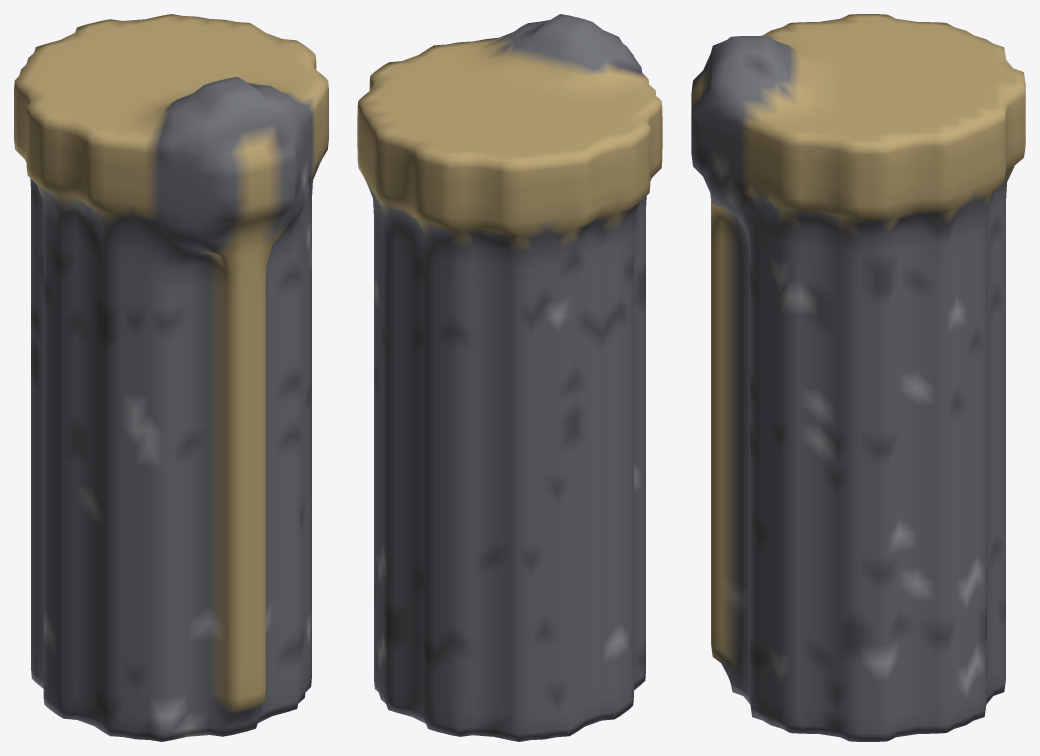
Rendered from plate_rare_boot_shin_L.glb.
3 views of the same model, side by side, from view 1: azimuth 30°, elevation 25°; view 2: azimuth 150°, elevation 25°; view 3: azimuth 270°, elevation 25° (orthographic). The views are drawn at different scales.
Parts seen in each view (by area): view 1: plate_rare_boot_shin_L; view 2: plate_rare_boot_shin_L; view 3: plate_rare_boot_shin_L.
Part boxes in pixels (box(x1,y1,x2,y2)): plate_rare_boot_shin_L: box(14, 14, 328, 741); plate_rare_boot_shin_L: box(357, 14, 662, 741); plate_rare_boot_shin_L: box(691, 14, 1025, 741).
Size of the model in its own units: 0.192 by 0.432 by 0.204.
